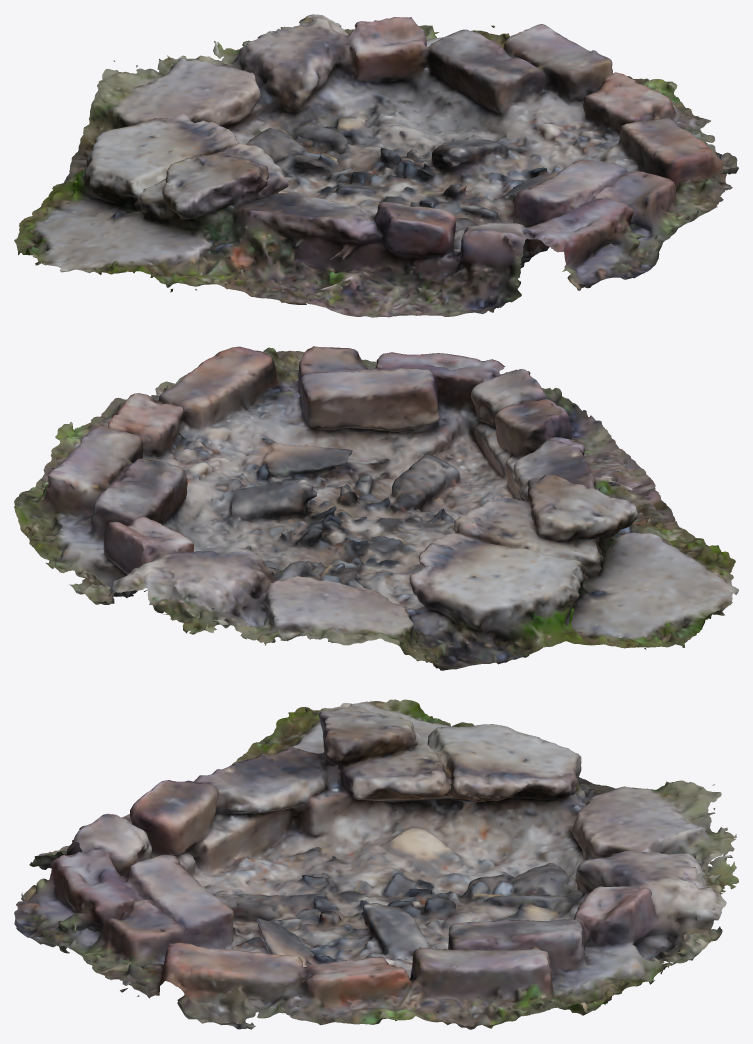
Rendered from firepitbl.fbx.
3 renders of one model, top to bottom at view 1: azimuth 30°, elevation 25°; view 2: azimuth 150°, elevation 25°; view 3: azimuth 270°, elevation 25°, orthographic. The views are drawn at different scales.
Parts seen in each view (by area): view 1: Model; view 2: Model; view 3: Model.
Part boxes in pixels (box(x1,y1,x2,y2)): Model: box(14, 14, 738, 317); Model: box(14, 346, 738, 670); Model: box(14, 699, 738, 1029).
Bounding box in the file's own units: 209 × 27.76 × 188.
